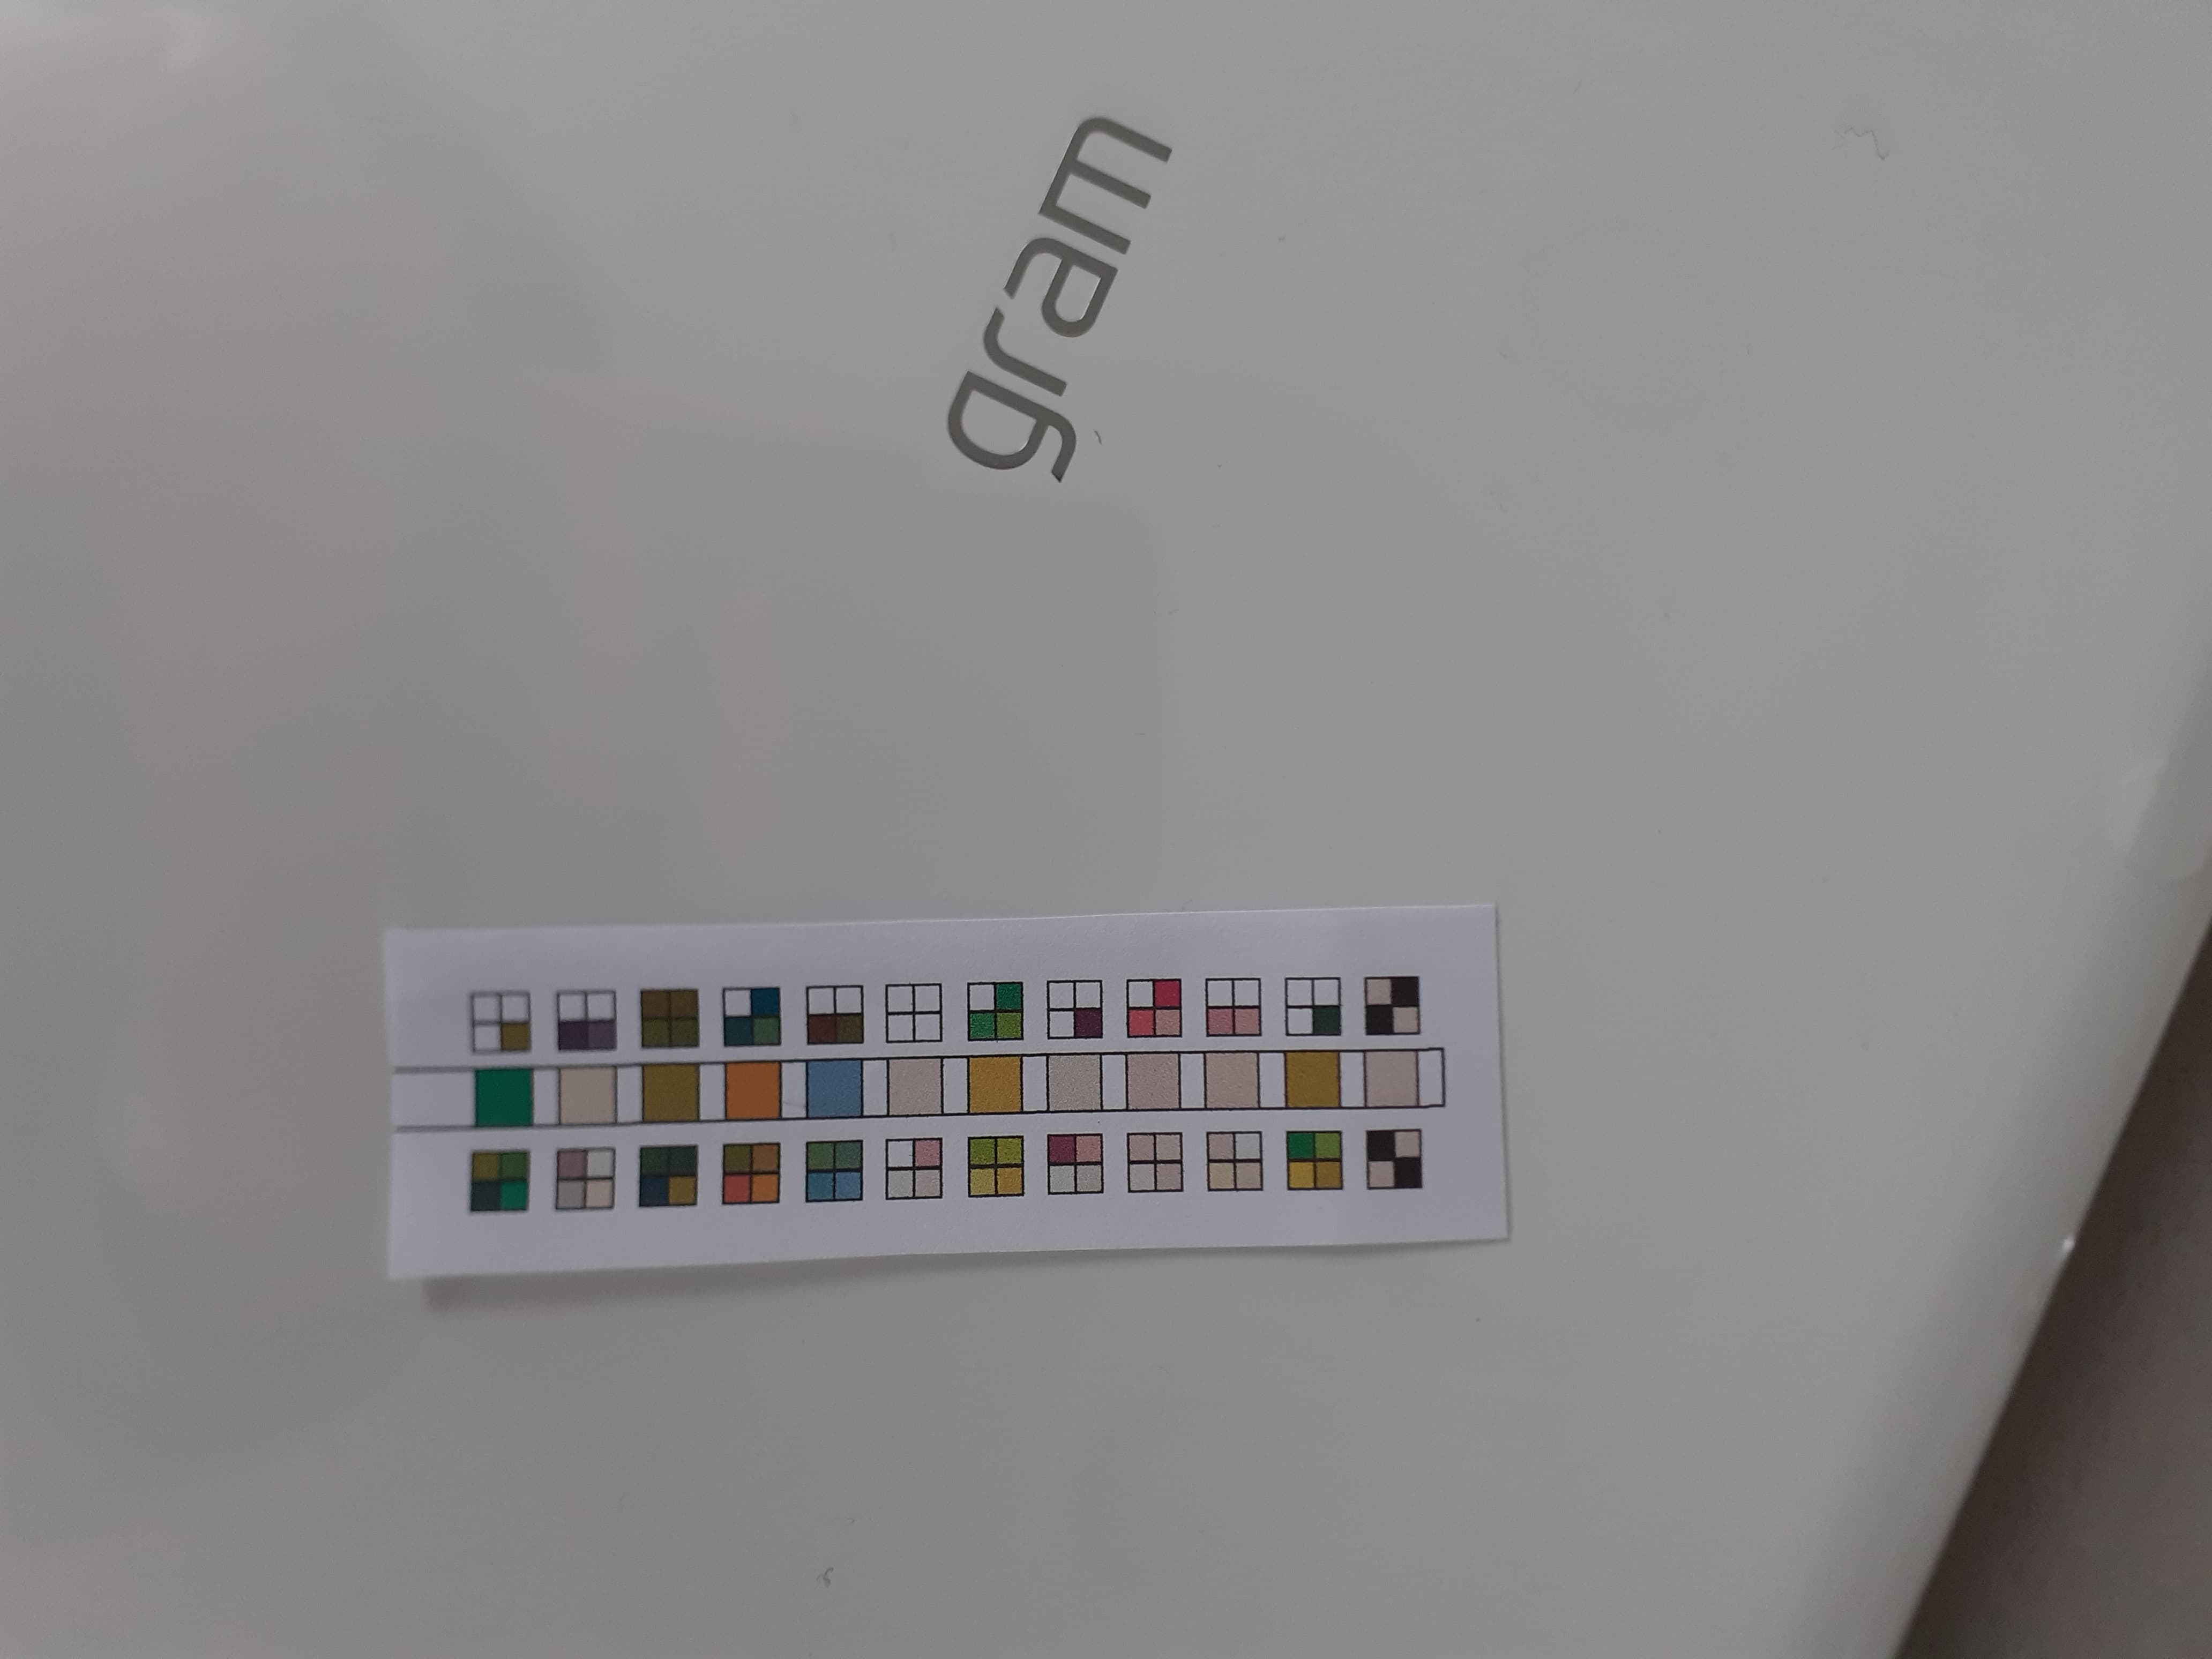tester: (380, 934, 1507, 1253)
